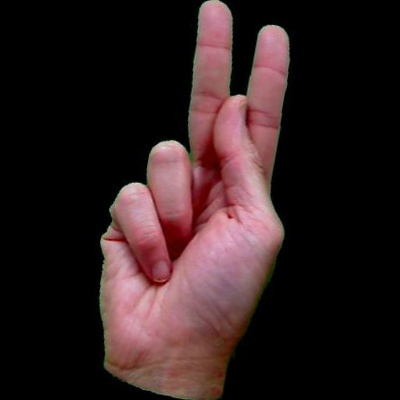k: (3, 2, 400, 396)
